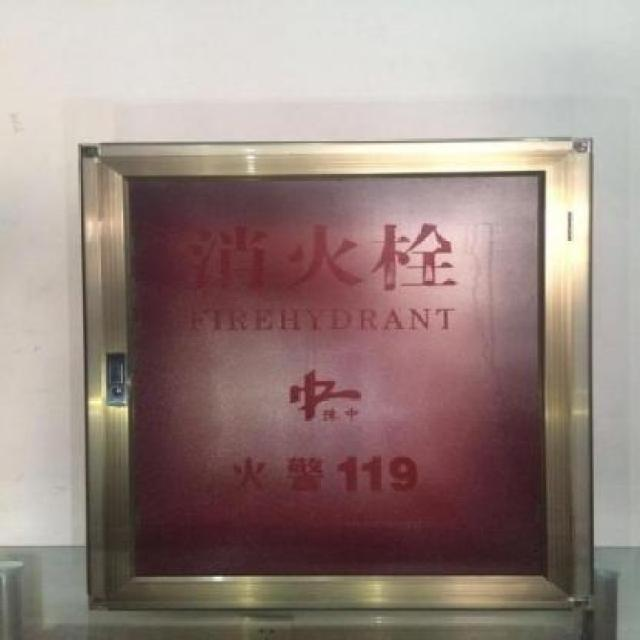firehydrant: (71, 131, 603, 618)
